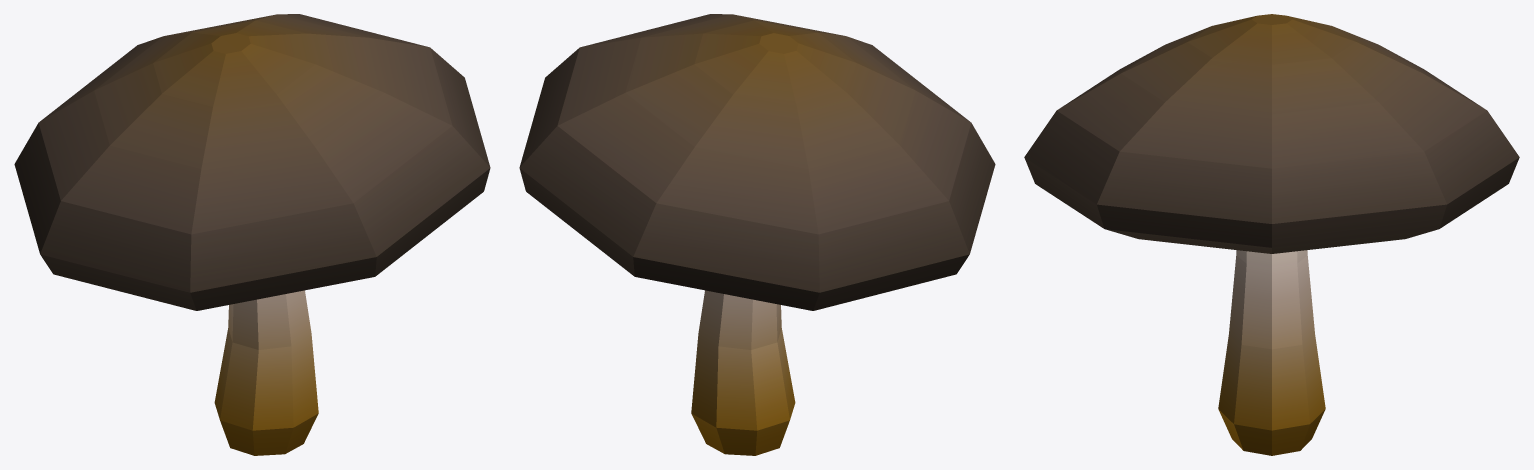
The model's file is Gradient_Mushroom_Brown_medium.glb.
3 renders of one model, left to right at view 1: azimuth 30°, elevation 25°; view 2: azimuth 150°, elevation 25°; view 3: azimuth 270°, elevation 25°, orthographic.
Visible parts, largest first — view 1: Brown Mushroom middle g; view 2: Brown Mushroom middle g; view 3: Brown Mushroom middle g.
Boxes of the visible parts, x1,y1,x2,y2 form: Brown Mushroom middle g: [14, 14, 490, 455]; Brown Mushroom middle g: [519, 14, 995, 455]; Brown Mushroom middle g: [1024, 14, 1519, 455].
Size of the model in its own units: 0.6092 by 0.5583 by 0.6174.
Materials: 1 (1 with a texture image).
